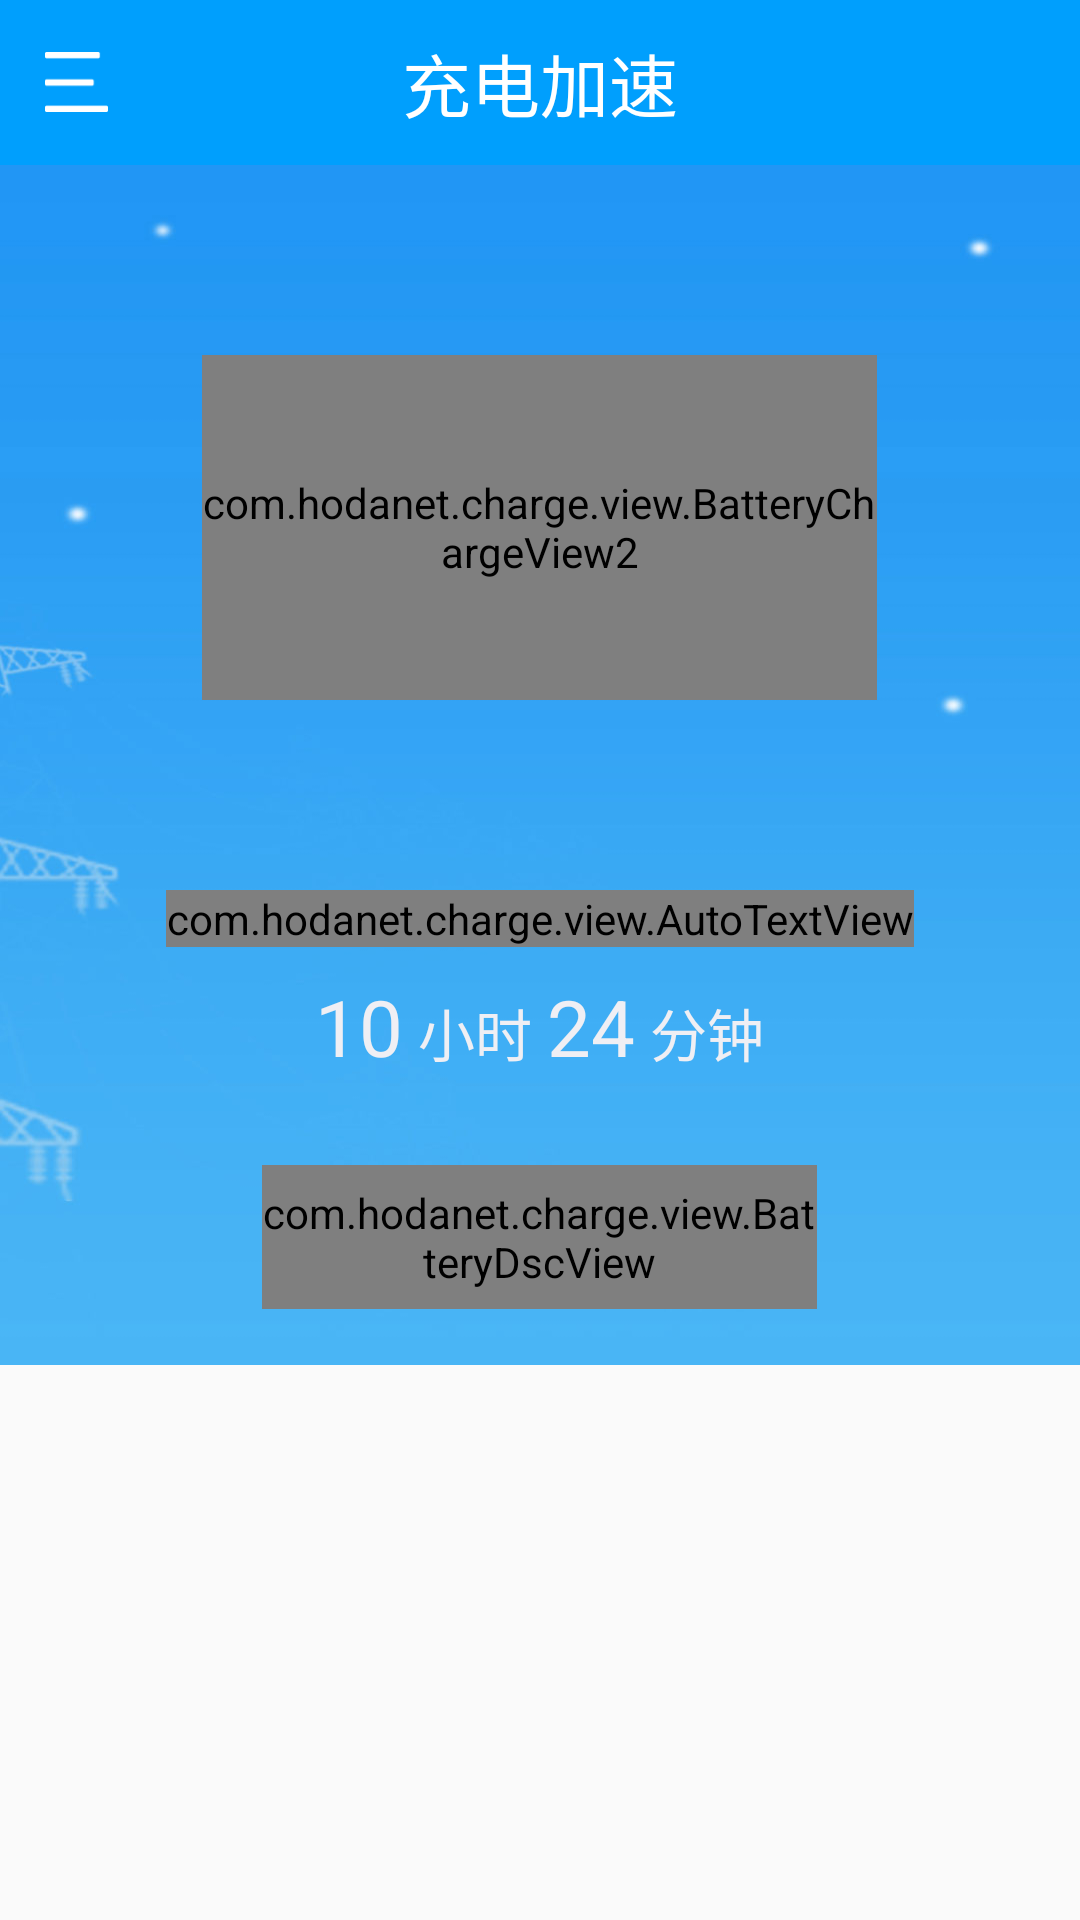

Named icons in this screenshot (1080x1920) and their centers, (x,y):
slide menu: (76,82)
